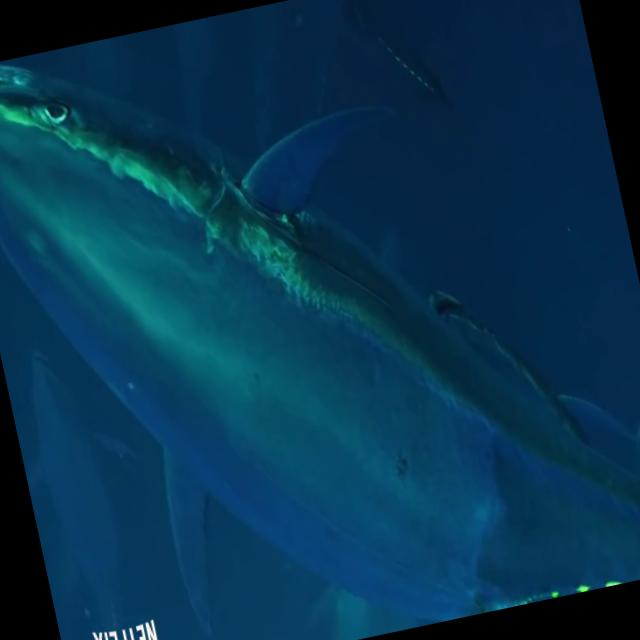fish: (0, 0, 640, 640), (0, 327, 174, 640)
